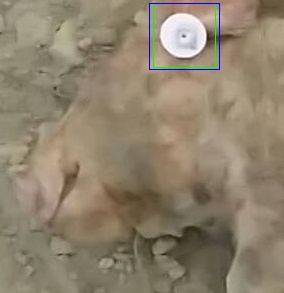text: (153, 3, 215, 67)
